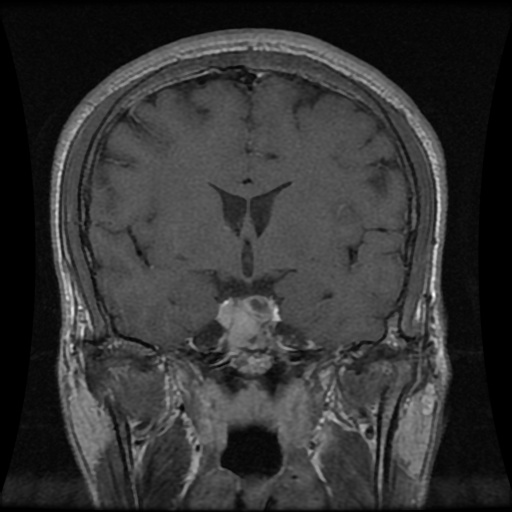pituitary: (218, 299, 272, 347)
